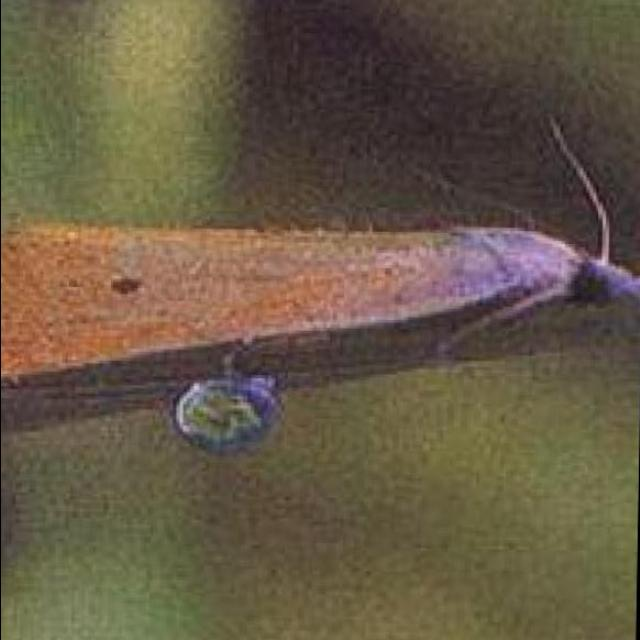stem borer: (0, 118, 640, 379)
